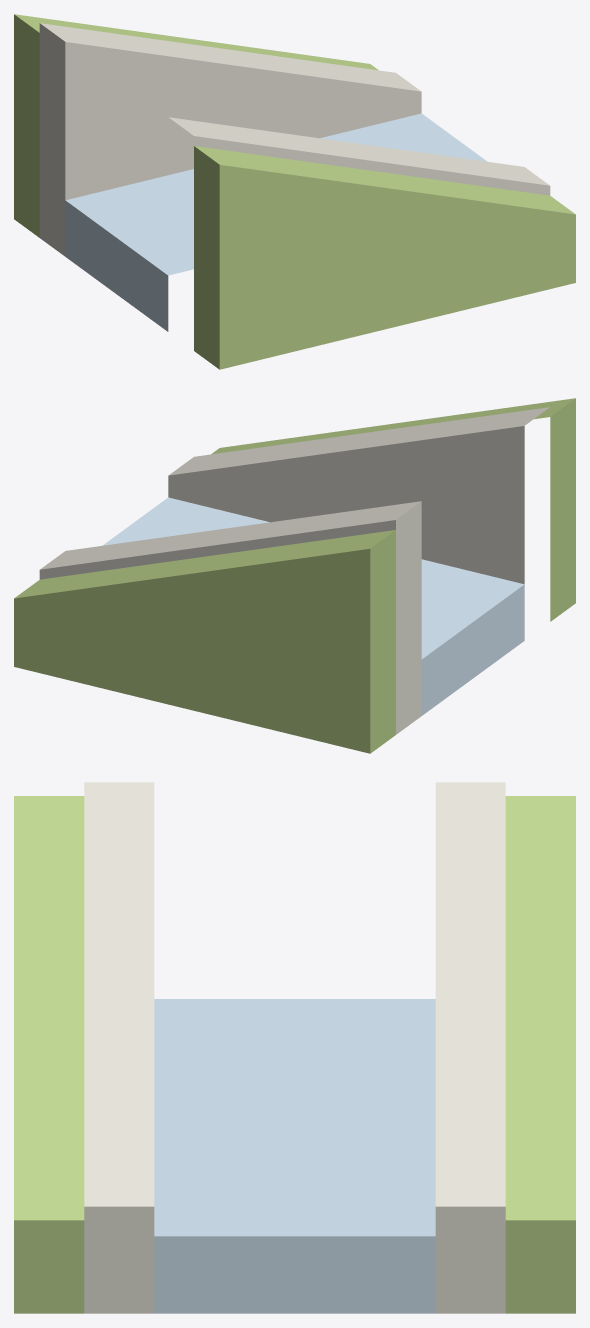
The model's file is kenney-3d-road-tiles-roadtile-206.glb.
3 views of the same model, one above another, from view 1: azimuth 30°, elevation 25°; view 2: azimuth 150°, elevation 25°; view 3: azimuth 270°, elevation 25° (orthographic). The views are drawn at different scales.
Visible parts, largest first — view 1: Mesh1 Group1 Model; view 2: Mesh1 Group1 Model; view 3: Mesh1 Group1 Model.
Boxes of the visible parts, bbox=[...] form: Mesh1 Group1 Model: bbox=[14, 14, 575, 369]; Mesh1 Group1 Model: bbox=[14, 398, 575, 753]; Mesh1 Group1 Model: bbox=[14, 782, 575, 1313].
Bounding box in the file's own units: 3 × 1.73 × 3.
